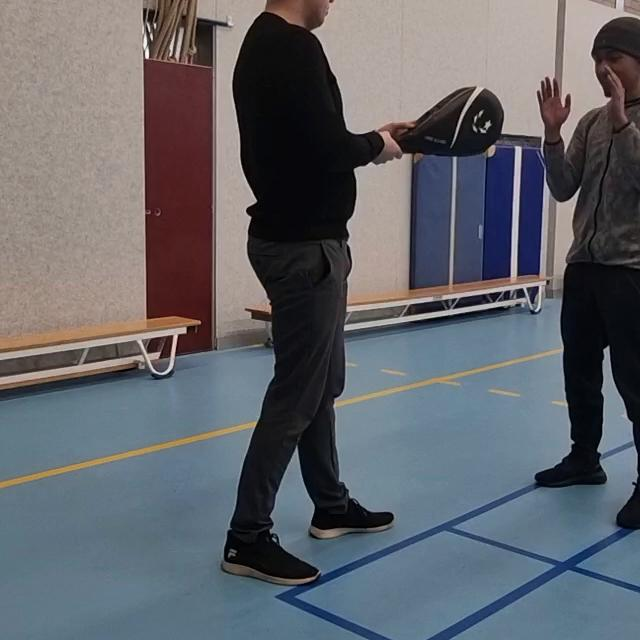paddle: (394, 84, 509, 163)
